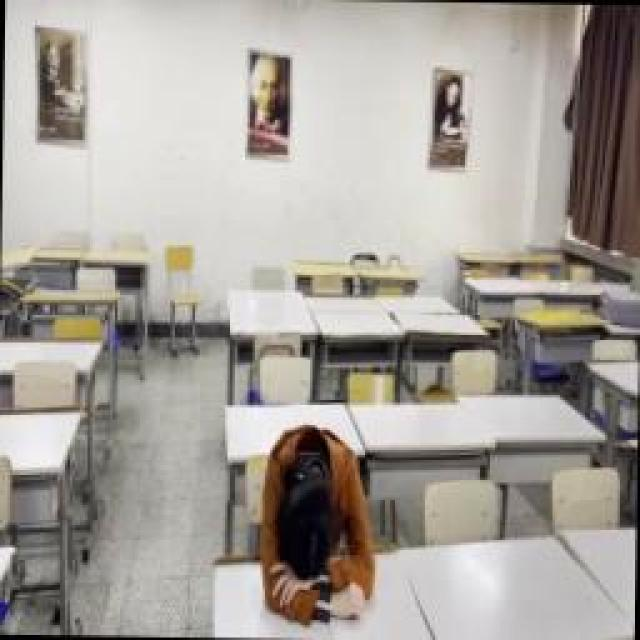sleep: (260, 428, 378, 630)
